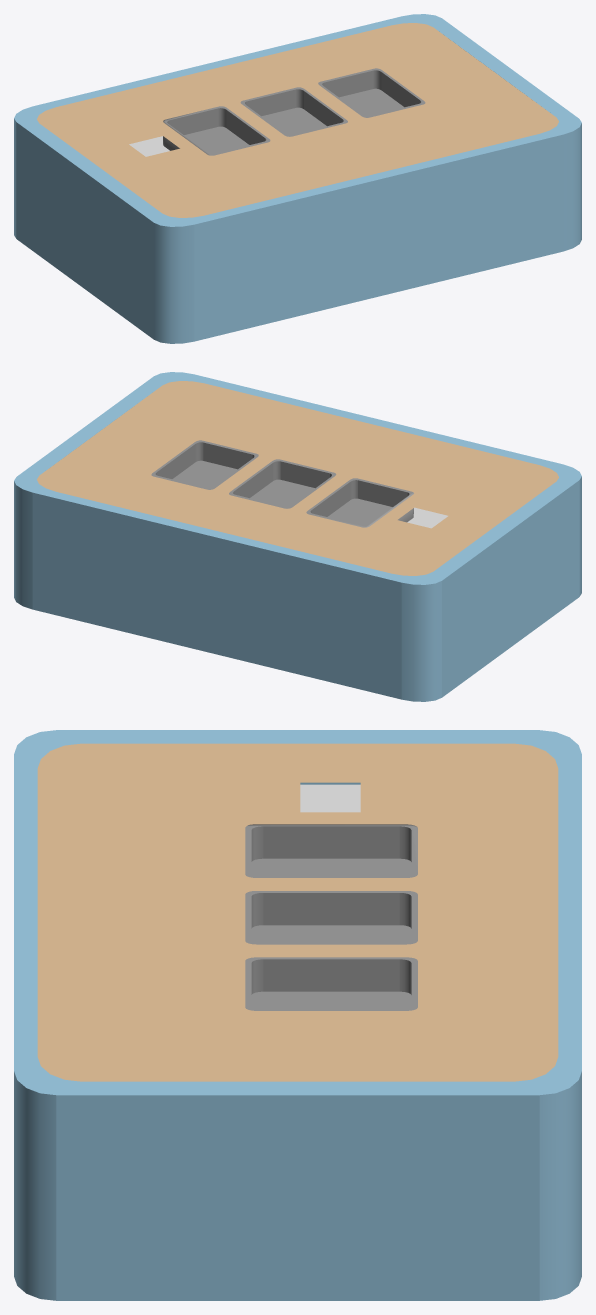
The model's file is BaseTable.fbx.
3 renders of one model, top to bottom at view 1: azimuth 30°, elevation 25°; view 2: azimuth 150°, elevation 25°; view 3: azimuth 270°, elevation 25°, orthographic. The views are drawn at different scales.
Visible parts, largest first — view 1: Cube.019, Cube.026, Cube.040, Cube.020, Cube.021; view 2: Cube.019, Cube.026, Cube.040, Cube.020, Cube.021; view 3: Cube.019, Cube.026, Cube.040, Cube.020, Cube.021.
Part boxes in pixels (x1,y1,x2,y2): Cube.019: (14, 14, 581, 343); Cube.026: (37, 23, 558, 217); Cube.040: (163, 106, 270, 155); Cube.020: (318, 68, 425, 117); Cube.021: (240, 87, 347, 136); Cube.019: (14, 372, 581, 701); Cube.026: (37, 381, 558, 575); Cube.040: (306, 478, 413, 527); Cube.020: (151, 440, 258, 489); Cube.021: (229, 459, 336, 508); Cube.019: (14, 730, 581, 1300); Cube.026: (37, 743, 558, 1081); Cube.040: (245, 824, 417, 877); Cube.020: (245, 957, 417, 1010); Cube.021: (245, 891, 417, 944).
Bounding box in the file's own units: 1115 × 293 × 733.
